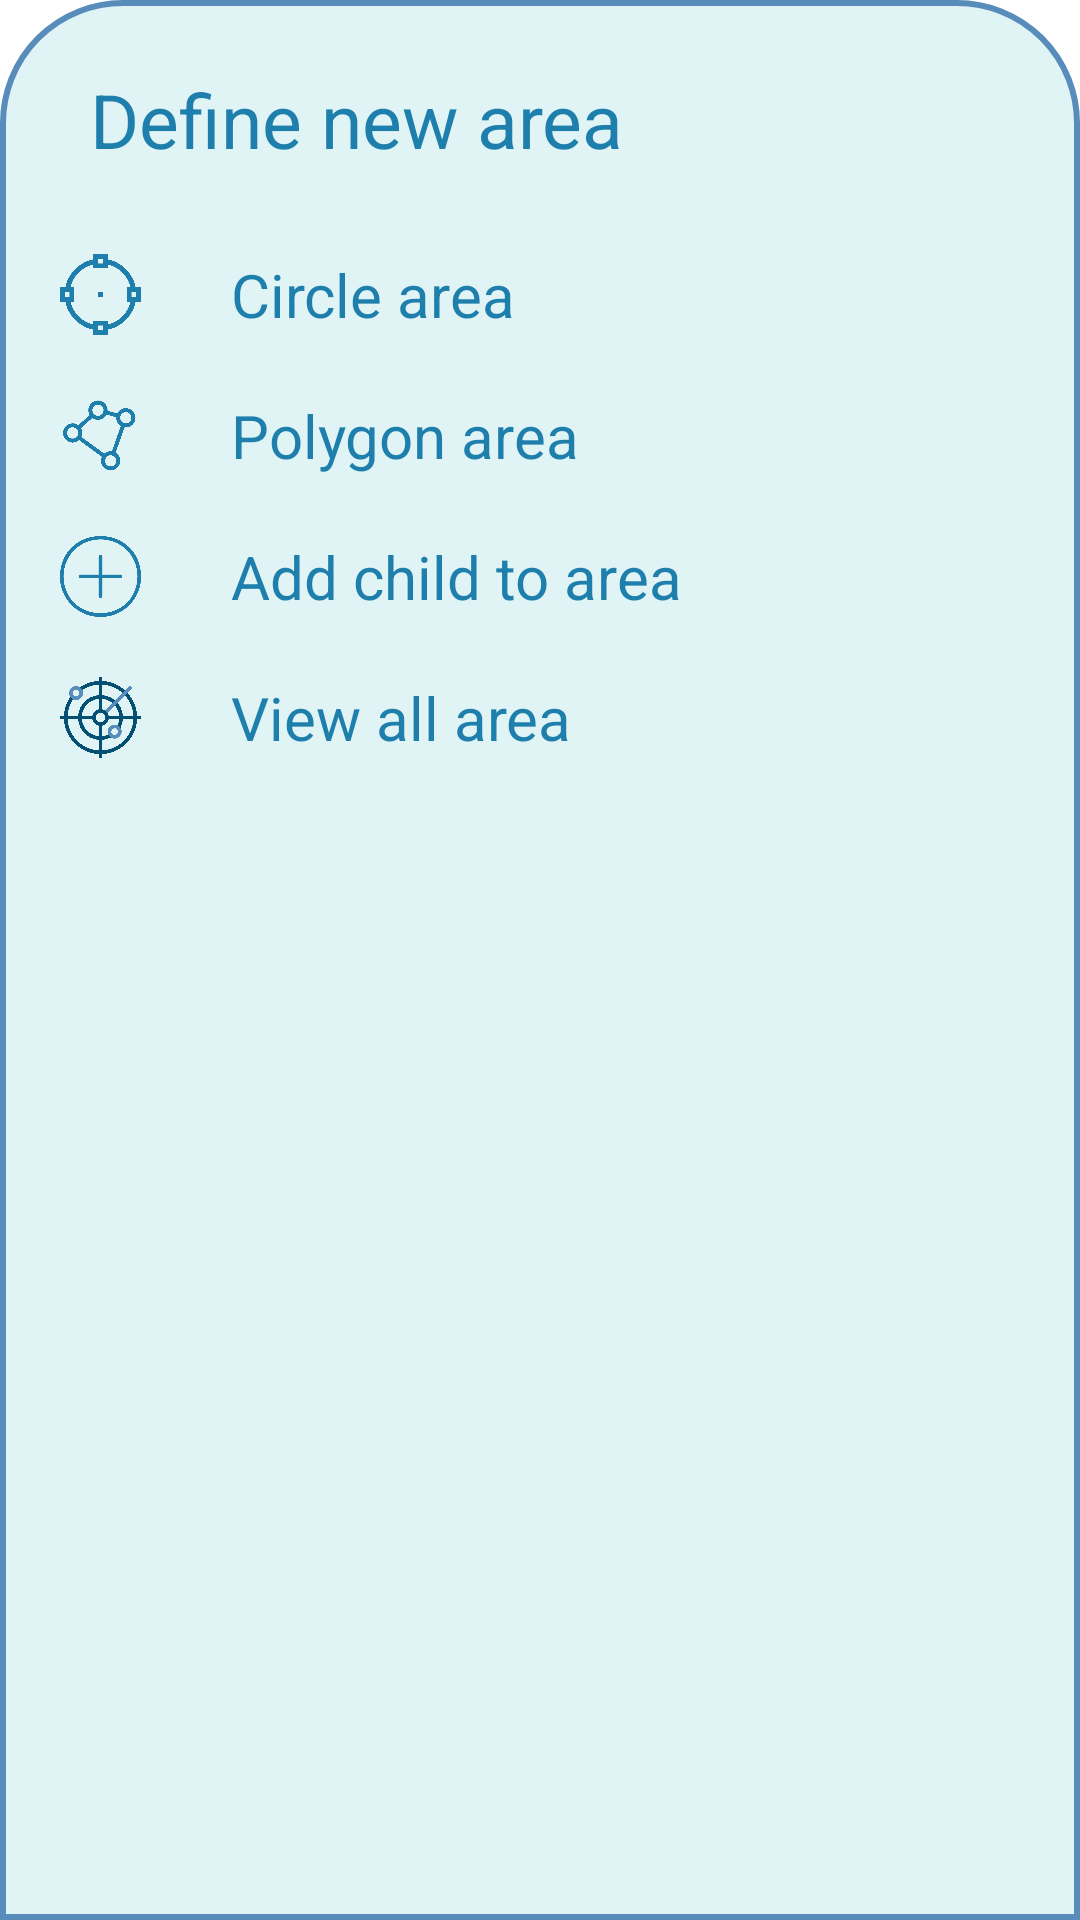

Icon bounding boxes for this 1080px x 1920px phone screenshot, format (x1, y1, x2, y2):
plus: (60, 536, 141, 617)
